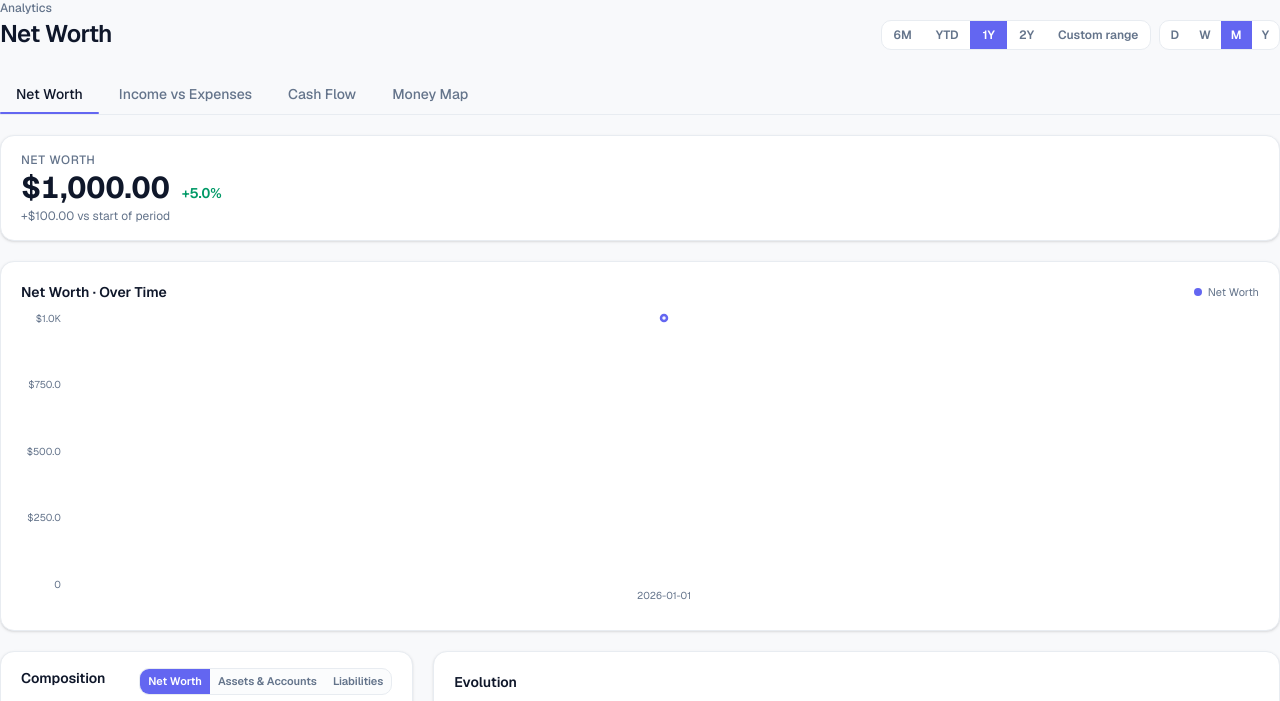
it: Reset then Apply restores the fallback for reports.netWorth
Click the button "Custom range". click: {"x": 1098, "y": 35}
box: [1046, 21, 1150, 49]
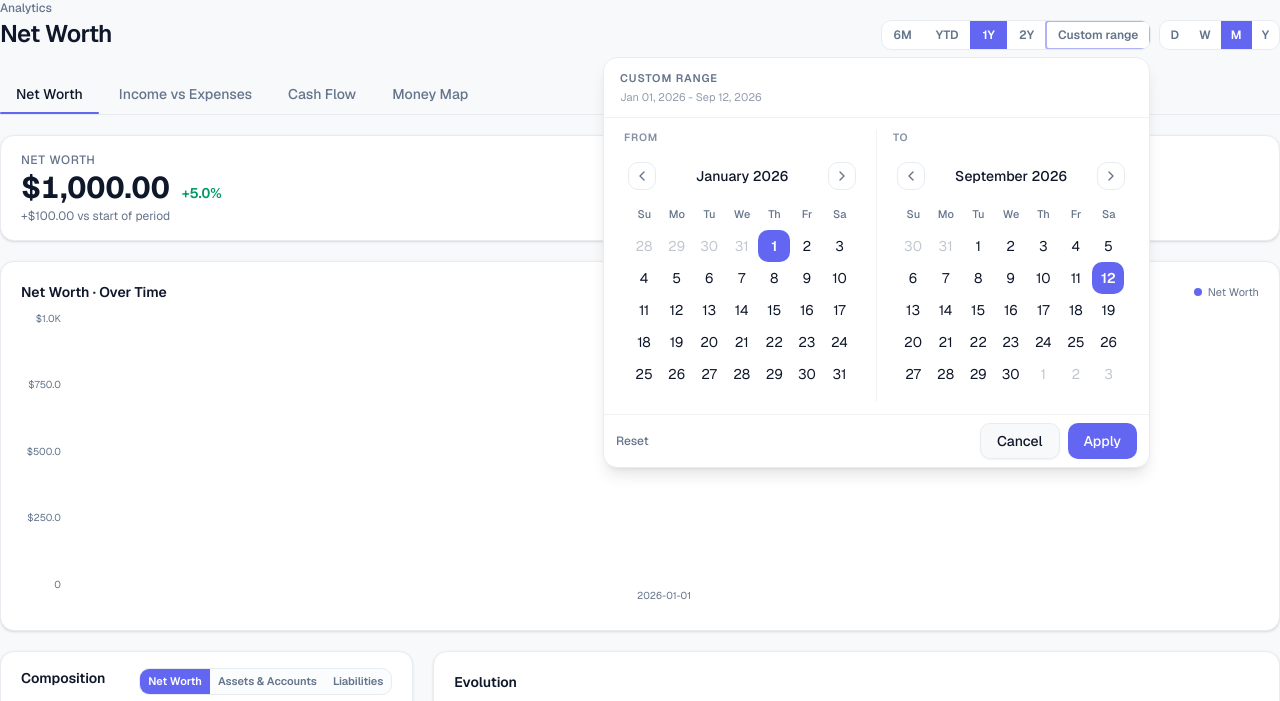
Click the button "Apply". click: {"x": 1102, "y": 441}
box: [1068, 423, 1137, 459]
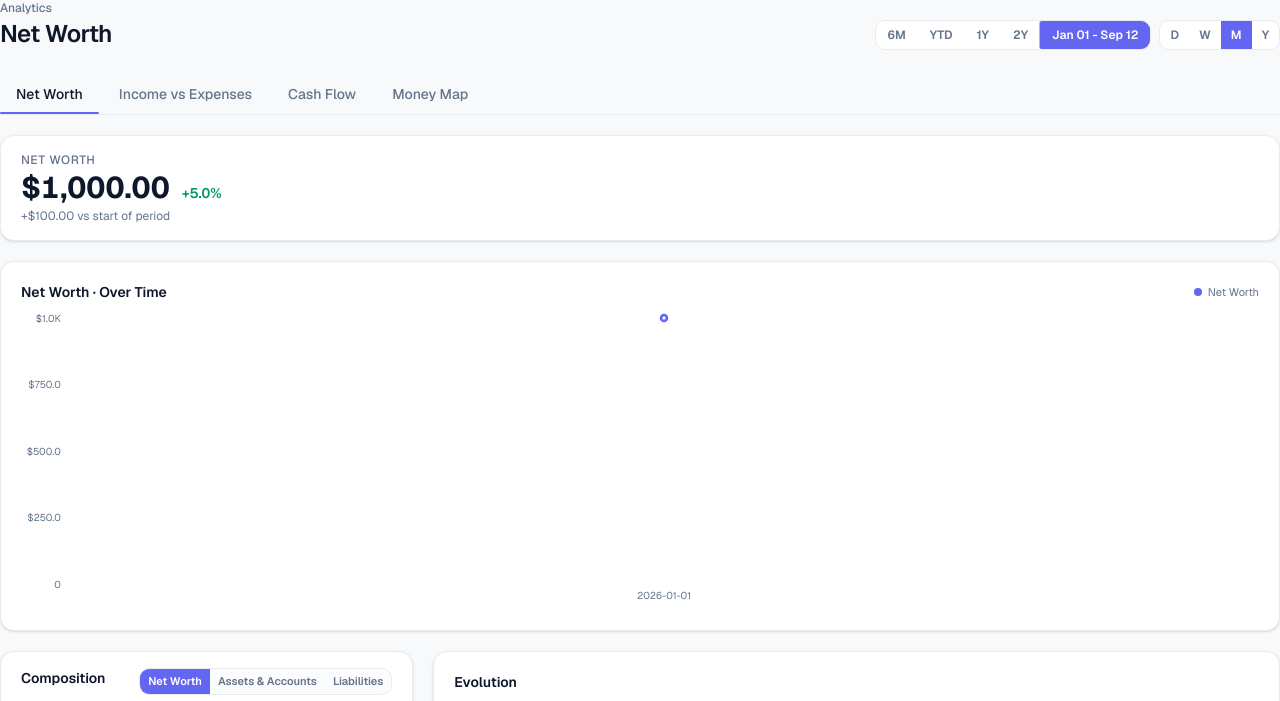
Click the button with aria-label "Custom range". click: {"x": 1095, "y": 35}
box: [1040, 21, 1150, 49]
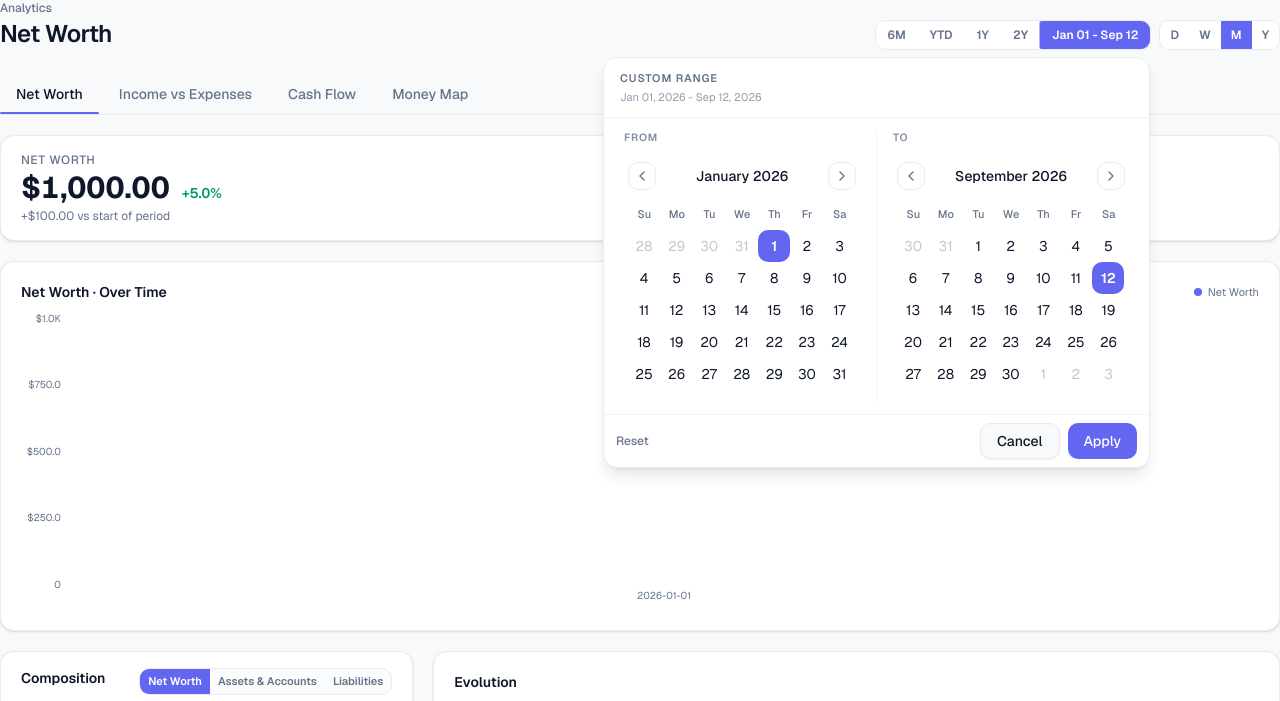
Click the button "Reset". click: {"x": 632, "y": 441}
box: [616, 432, 649, 450]
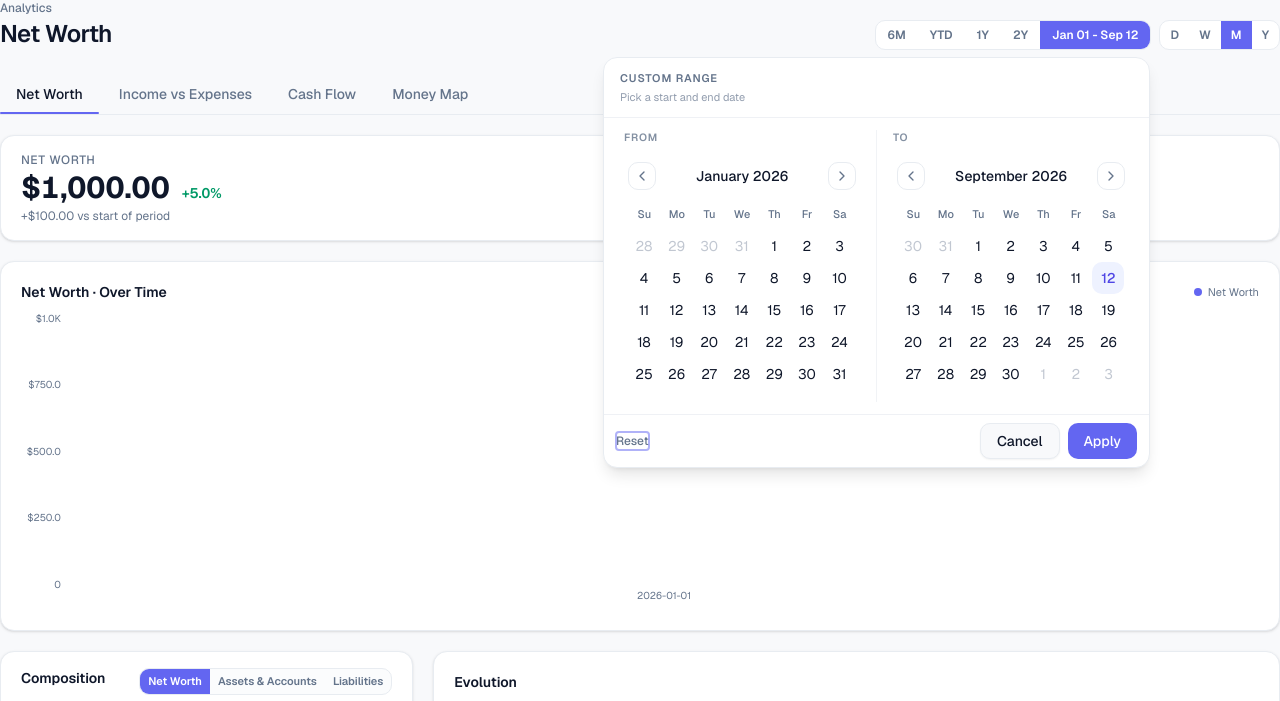
Click the button "Apply". click: {"x": 1102, "y": 441}
box: [1068, 423, 1137, 459]
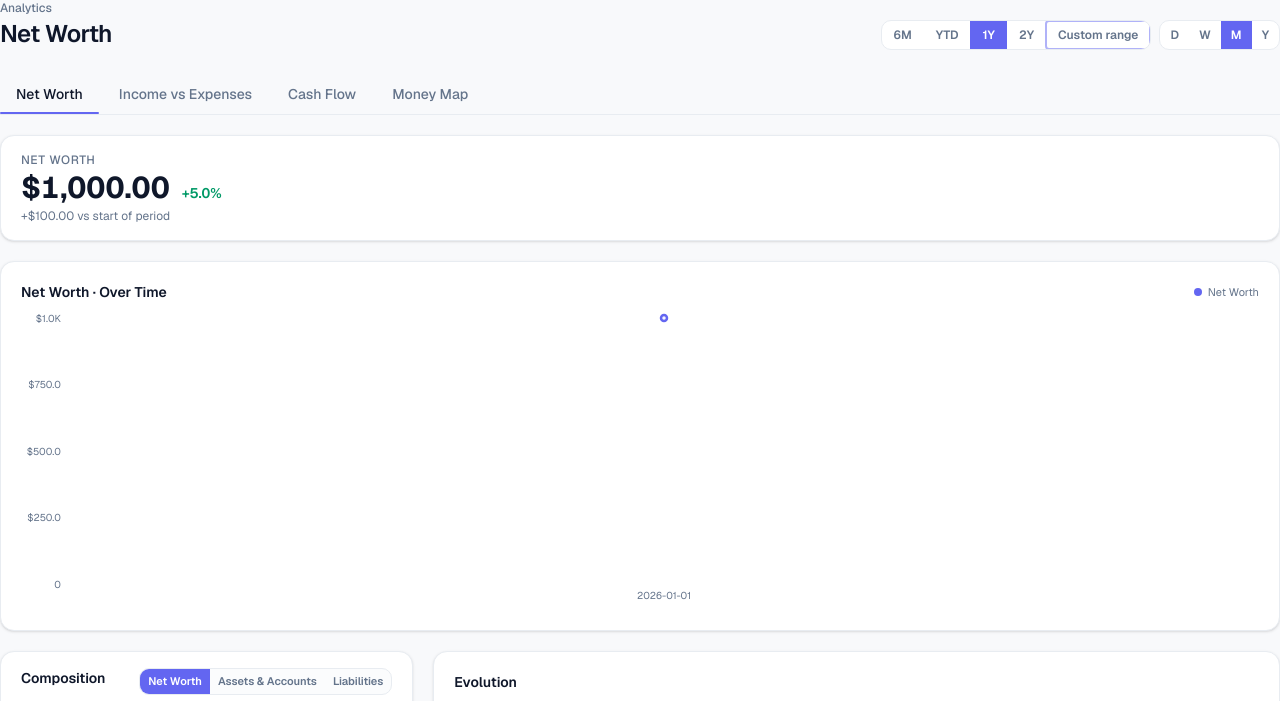
Result: the button "Custom range" is shown at [1046, 21, 1150, 49]
